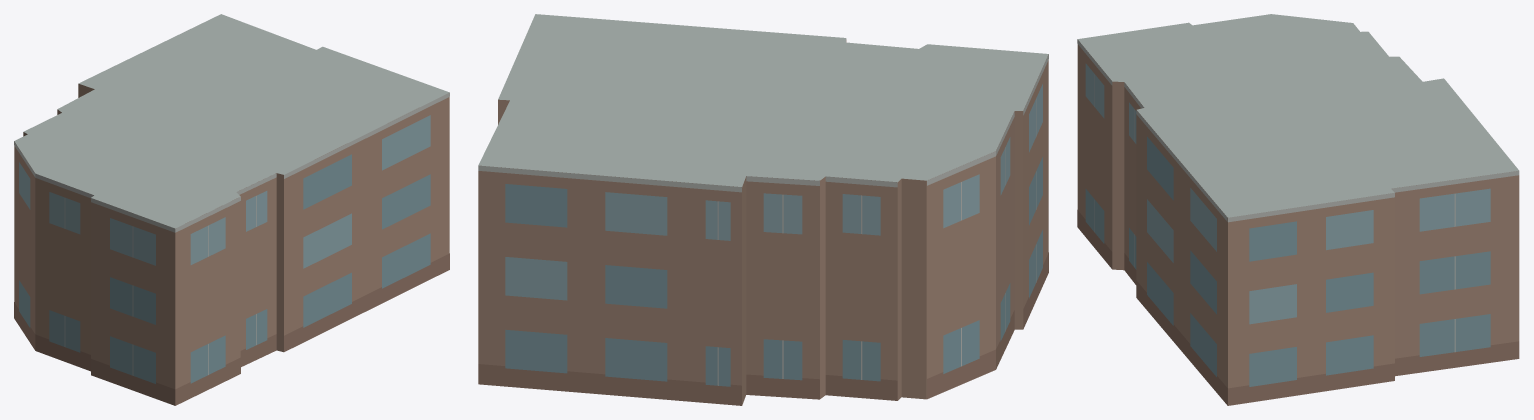
The model's file is survey-upis-32501083.glb.
The picture shows the model from 3 angles, left to right: view 1: azimuth 30°, elevation 25°; view 2: azimuth 150°, elevation 25°; view 3: azimuth 270°, elevation 25°; orthographic projection. The views are drawn at different scales.
Parts seen in each view (by area): view 1: survey-upis-32501083.tmp; view 2: survey-upis-32501083.tmp; view 3: survey-upis-32501083.tmp.
Part boxes in pixels (x1=…): survey-upis-32501083.tmp: x1=14, y1=14, x2=449, y2=405; survey-upis-32501083.tmp: x1=478, y1=14, x2=1048, y2=405; survey-upis-32501083.tmp: x1=1077, y1=14, x2=1519, y2=405.
Bounding box in the file's own units: 23.48 × 10.1 × 21.51.
